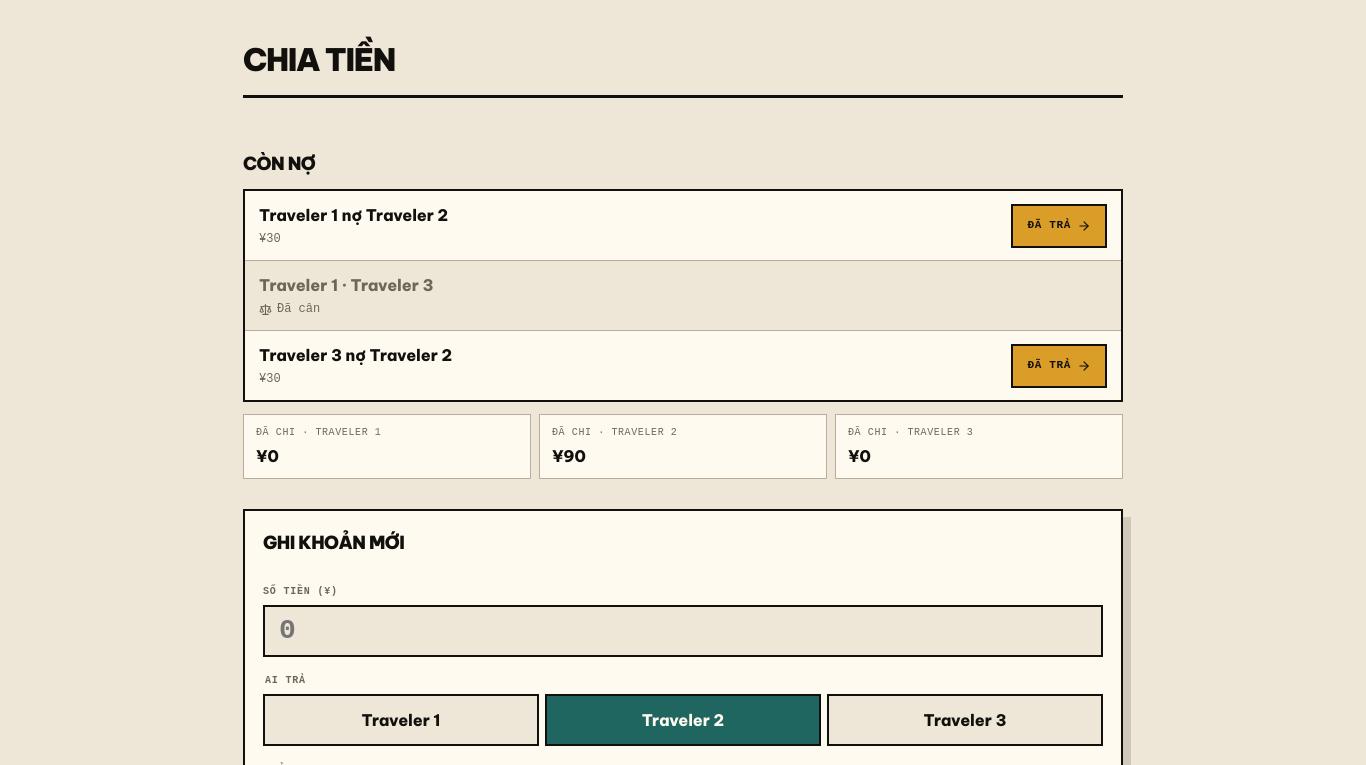
Test: ExpenseBoard › records nothing when the traveler backs out
The image size is (1366, 765).
Click the button "Đã trả" in the row of "Traveler 1 nợ Traveler 2". click: x=1059, y=226
box: x1=1011 y1=204 x2=1107 y2=248
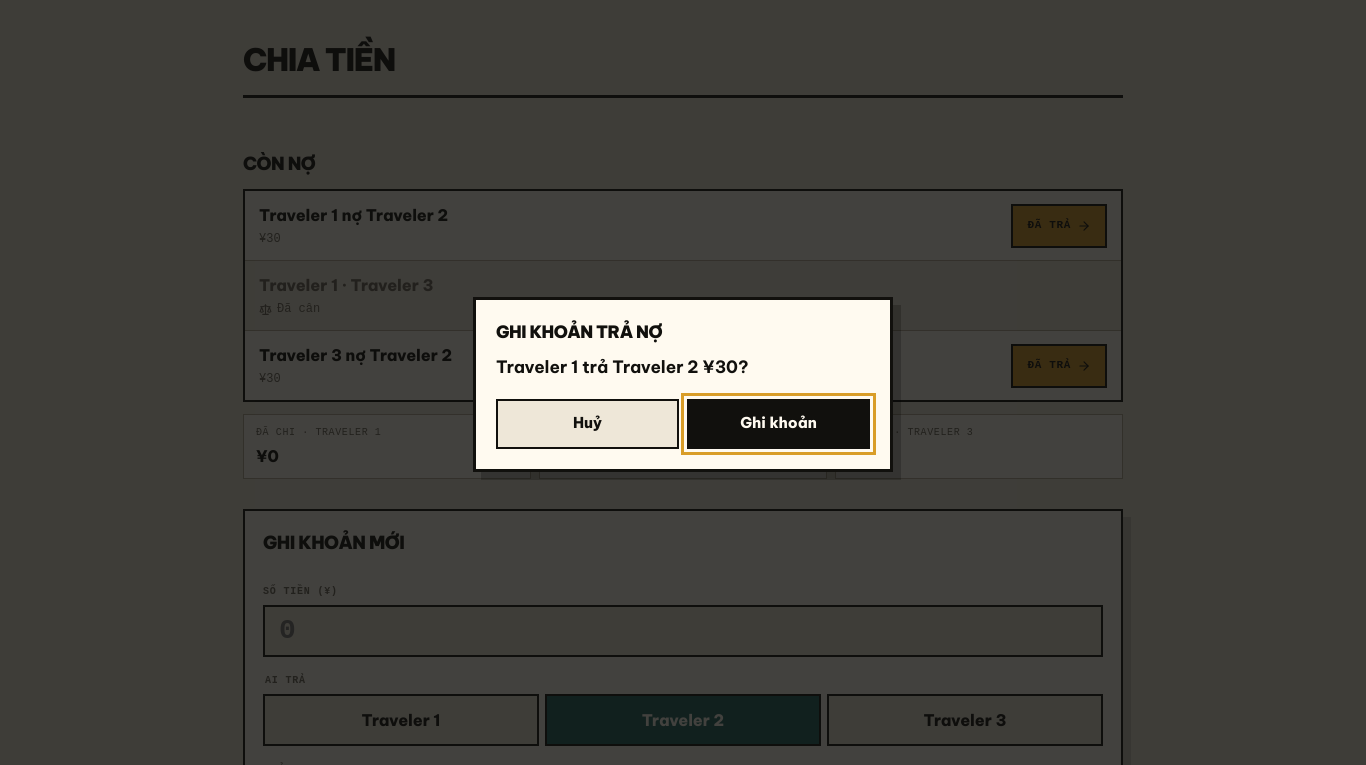
Click the button "Huỷ". click: x=588, y=424
box: x1=496 y1=398 x2=679 y2=448
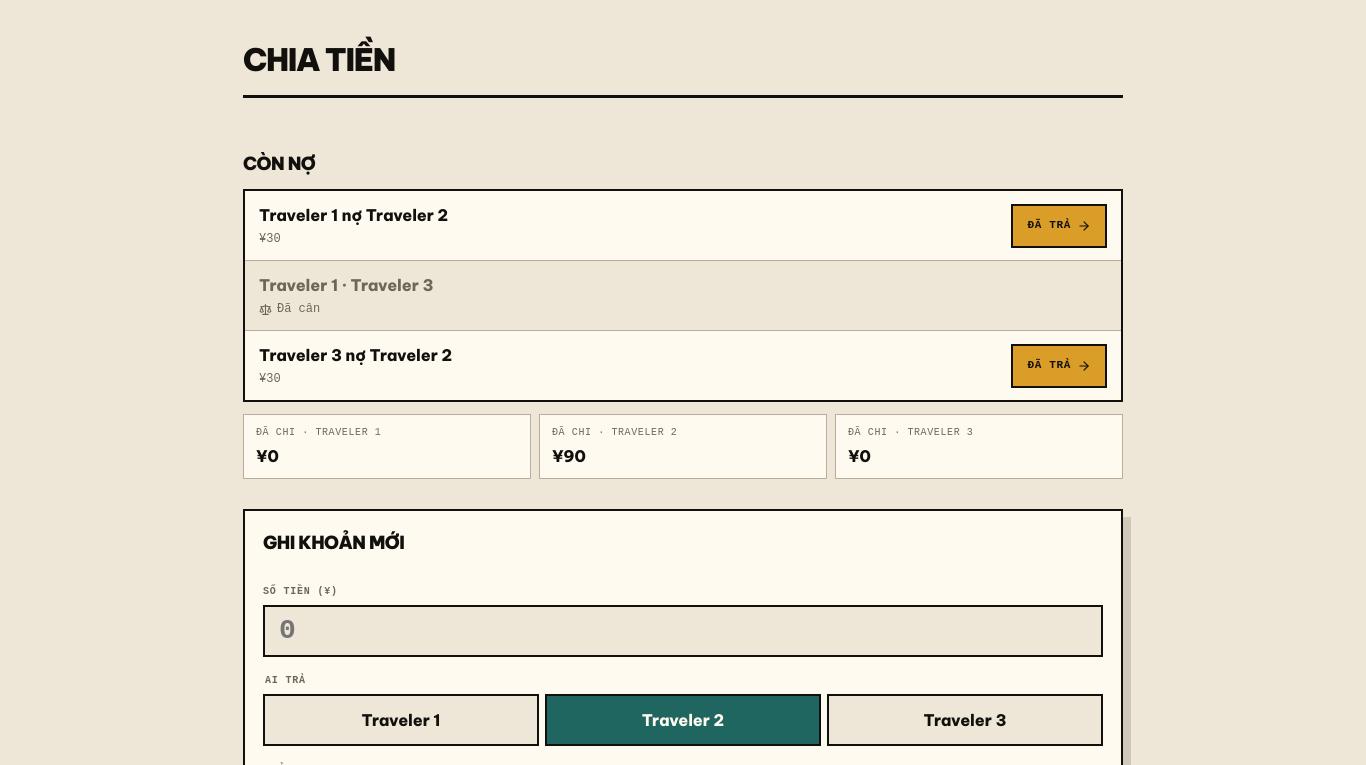
Expected: the dialog is gone
